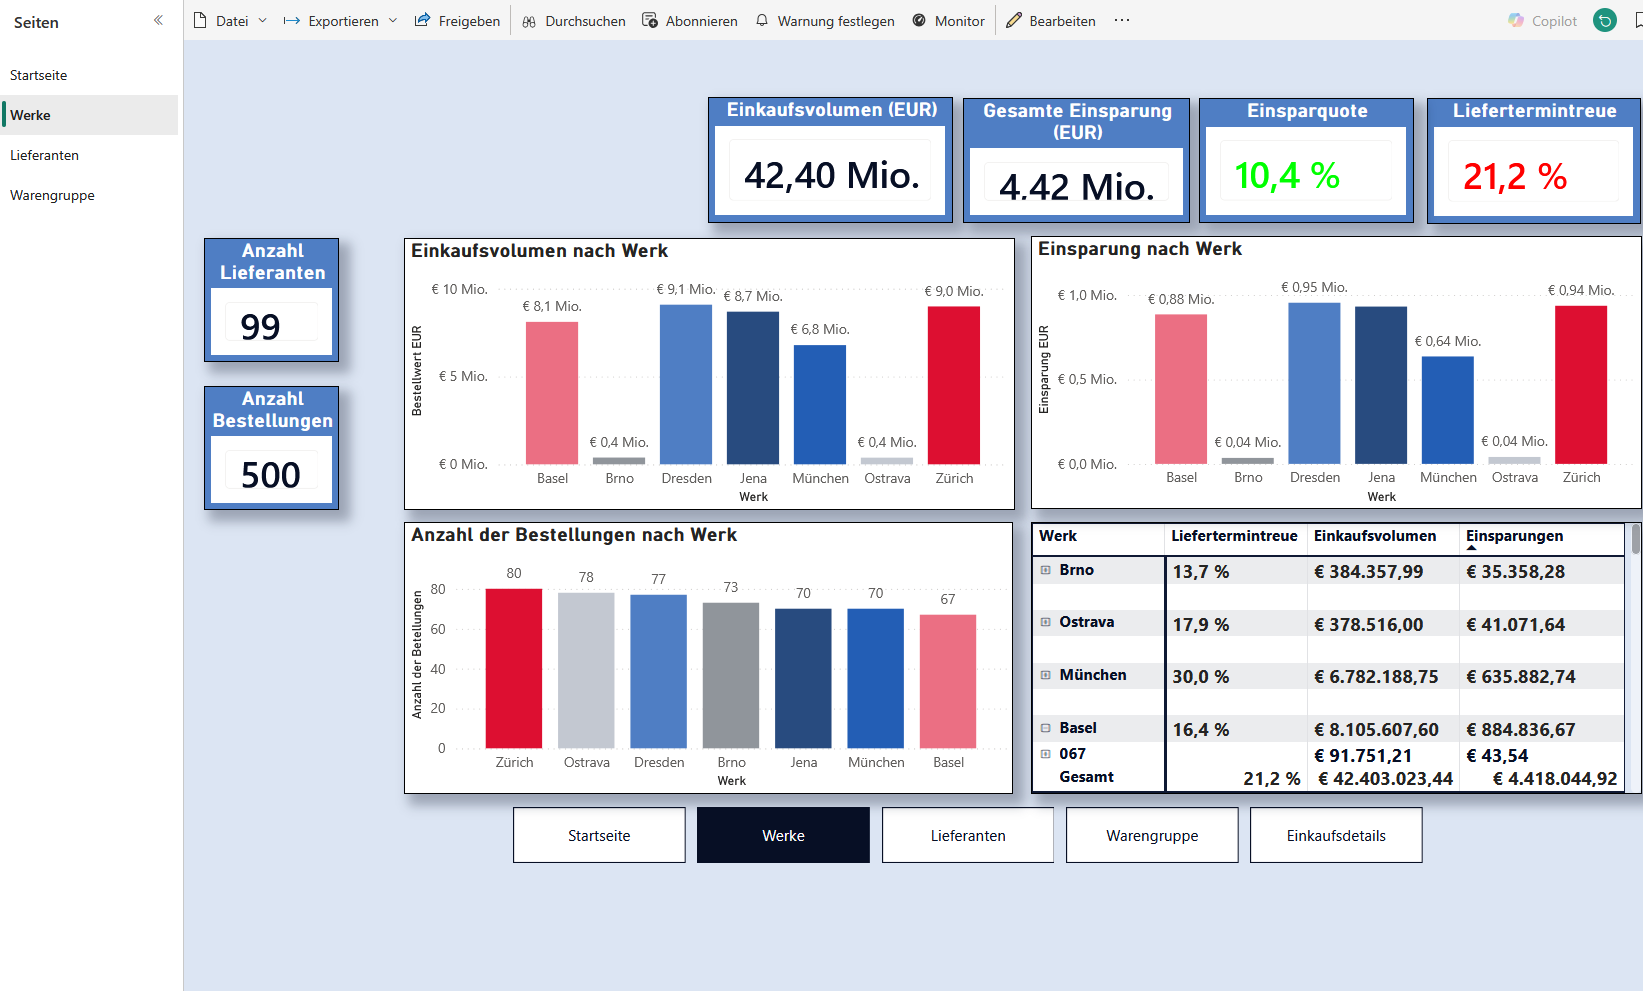

This screenshot's page, from the dashboard's own definition file:
{"tool":"powerbi","page":{"name":"Werke","canvas":[1280,720],"ordinal":1},"visuals":[{"type":"pageNavigator","box":[287.4,670.5,799.9,49.8],"z":0},{"type":"pivotTable","fields":{"Rows":["Einkaufsdaten.Werk","Einkaufsdaten.Lieferant","Einkaufsdaten.Bestellnummer"],"Values":["Einkaufsdaten.Liefertermintreue","Sum(Einkaufsdaten.Bestellwert Euro)","Sum(Einkaufsdaten.Einsparung EUR)"]},"box":[739.6,421.3,533.8,237.4],"z":1000},{"type":"cardVisual","title":"Liefertermintreue","fields":{"Data":["Einkaufsdaten.Liefertermintreue"]},"box":[1086.4,50.6,186.7,109.9],"z":3000},{"type":"cardVisual","title":"Einkaufsvolumen (EUR)","fields":{"Data":["Einkaufsdaten.Gesamt Einkaufsvolumen EUR"]},"box":[458.1,49.6,214,109.9],"z":4000},{"type":"cardVisual","title":"Gesamte Einsparung (EUR)","fields":{"Data":["Einkaufsdaten.Gesamte Einsparung"]},"box":[680.9,50.6,198.4,108.9],"z":5000},{"type":"cardVisual","title":"Einsparquote","fields":{"Data":["Einkaufsdaten.Einsparquote"]},"box":[887.1,50.6,187.7,108.9],"z":6000},{"type":"cardVisual","title":"Anzahl Bestellungen","fields":{"Data":["Einkaufsdaten.Anzahl Bestellungen"]},"box":[17.8,301.9,118,108.4],"z":7000},{"type":"cardVisual","title":"Anzahl Lieferanten","fields":{"Data":["Einkaufsdaten.Anzahl Lieferanten"]},"box":[17.8,172.9,118,108.4],"z":8000},{"type":"columnChart","title":"Einkaufsvolumen nach Werk","fields":{"Category":["Einkaufsdaten.Werk","Einkaufsdaten.Lieferant","Einkaufsdaten.Bestellnummer"],"Y":["Sum(Einkaufsdaten.Bestellwert Euro)"]},"box":[192.1,172.9,533.8,237.4],"z":9000},{"type":"columnChart","title":"Einsparung nach Werk","fields":{"Category":["Einkaufsdaten.Werk","Einkaufsdaten.Lieferant","Einkaufsdaten.Bestellnummer"],"Y":["Sum(Einkaufsdaten.Einsparung EUR)"]},"box":[739.6,171.5,533.8,238.8],"z":10000},{"type":"columnChart","title":"Anzahl der Bestellungen nach Werk","fields":{"Category":["Einkaufsdaten.Werk"],"Y":["CountNonNull(Einkaufsdaten.Bestellnummer)"]},"box":[192.1,421.3,532.4,237.4],"z":11000}]}

Visuals, with their boxes on the page's 1280x720 design canvas (x1, y1, x2, y2). These are canvas units, not pixel positions in the 1643x991 screenshot, which may show the page scaled, cropped or inside an application window:
pageNavigator: <bbox>287, 670, 1087, 720</bbox>
pivotTable - Einkaufsdaten.Werk x Einkaufsdaten.Lieferant: <bbox>740, 421, 1273, 659</bbox>
"Liefertermintreue" cardVisual: <bbox>1086, 51, 1273, 160</bbox>
"Einkaufsvolumen (EUR)" cardVisual: <bbox>458, 50, 672, 160</bbox>
"Gesamte Einsparung (EUR)" cardVisual: <bbox>681, 51, 879, 160</bbox>
"Einsparquote" cardVisual: <bbox>887, 51, 1075, 160</bbox>
"Anzahl Bestellungen" cardVisual: <bbox>18, 302, 136, 410</bbox>
"Anzahl Lieferanten" cardVisual: <bbox>18, 173, 136, 281</bbox>
"Einkaufsvolumen nach Werk" columnChart: <bbox>192, 173, 726, 410</bbox>
"Einsparung nach Werk" columnChart: <bbox>740, 172, 1273, 410</bbox>
"Anzahl der Bestellungen nach Werk" columnChart: <bbox>192, 421, 724, 659</bbox>
